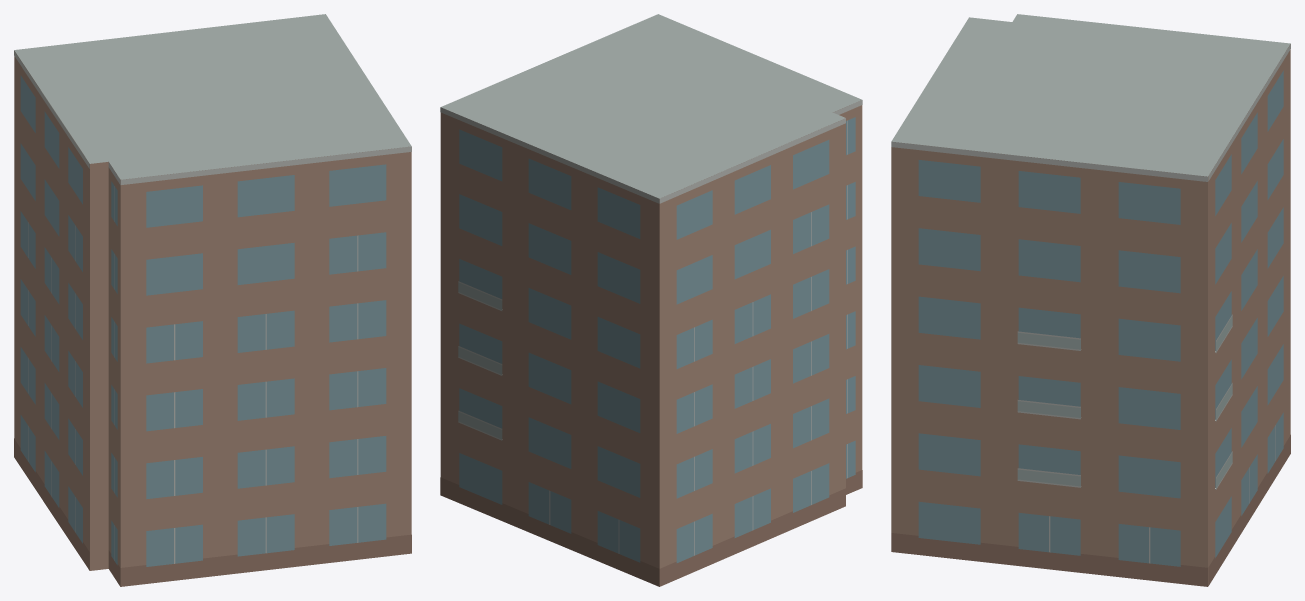
File: survey-upis-32954443.glb
3 views of the same model, side by side, from view 1: azimuth 30°, elevation 25°; view 2: azimuth 150°, elevation 25°; view 3: azimuth 270°, elevation 25° (orthographic). The views are drawn at different scales.
Parts seen in each view (by area): view 1: survey-upis-32954443.tmp; view 2: survey-upis-32954443.tmp; view 3: survey-upis-32954443.tmp.
Part boxes in pixels (x1=…): survey-upis-32954443.tmp: x1=14, y1=14, x2=411, y2=586; survey-upis-32954443.tmp: x1=440, y1=14, x2=862, y2=586; survey-upis-32954443.tmp: x1=891, y1=14, x2=1290, y2=586.
Bounding box in the file's own units: 15.56 × 18.3 × 16.16.
